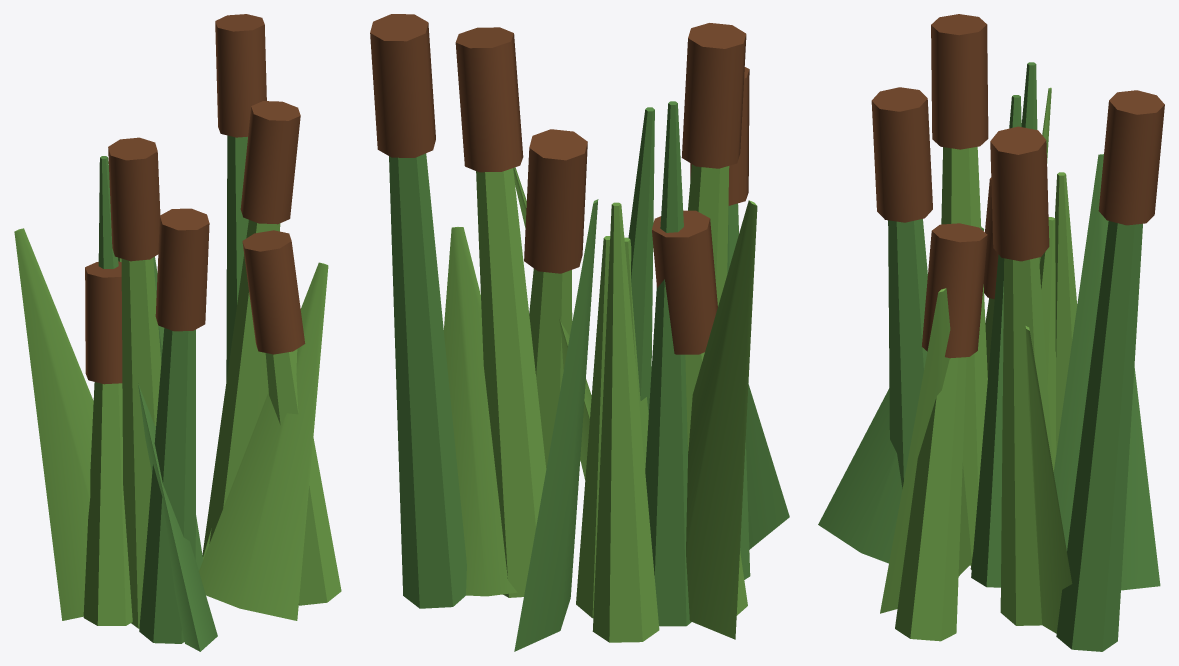
Rendered from v_reeds.glb.
The picture shows the model from 3 angles, left to right: view 1: azimuth 30°, elevation 25°; view 2: azimuth 150°, elevation 25°; view 3: azimuth 270°, elevation 25°; orthographic projection. The views are drawn at different scales.
Visible parts, largest first — view 1: Reeds; view 2: Reeds; view 3: Reeds.
Part boxes in pixels (bbox=[...]): Reeds: bbox=[14, 14, 341, 651]; Reeds: bbox=[370, 14, 789, 651]; Reeds: bbox=[818, 14, 1164, 651].
Bounding box in the file's own units: 0.6447 × 1.08 × 0.6177.
